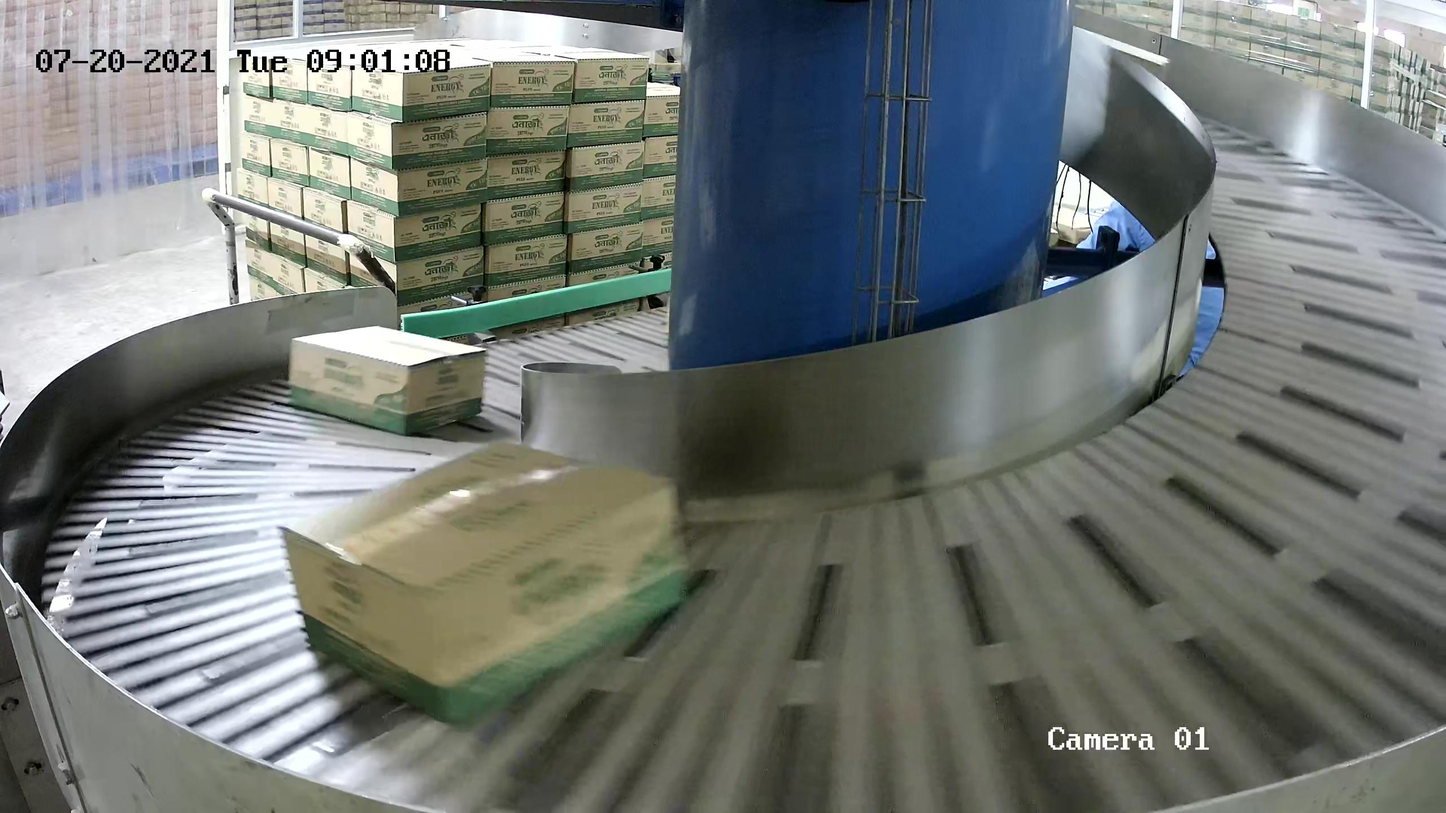Box: (275, 439, 692, 727), (287, 324, 488, 436)
